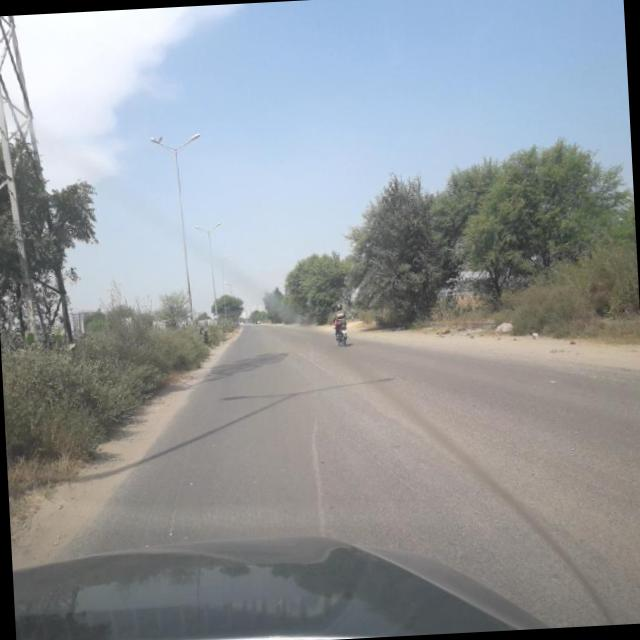pothole: (307, 350, 467, 474), (168, 422, 192, 538), (305, 410, 329, 525)
